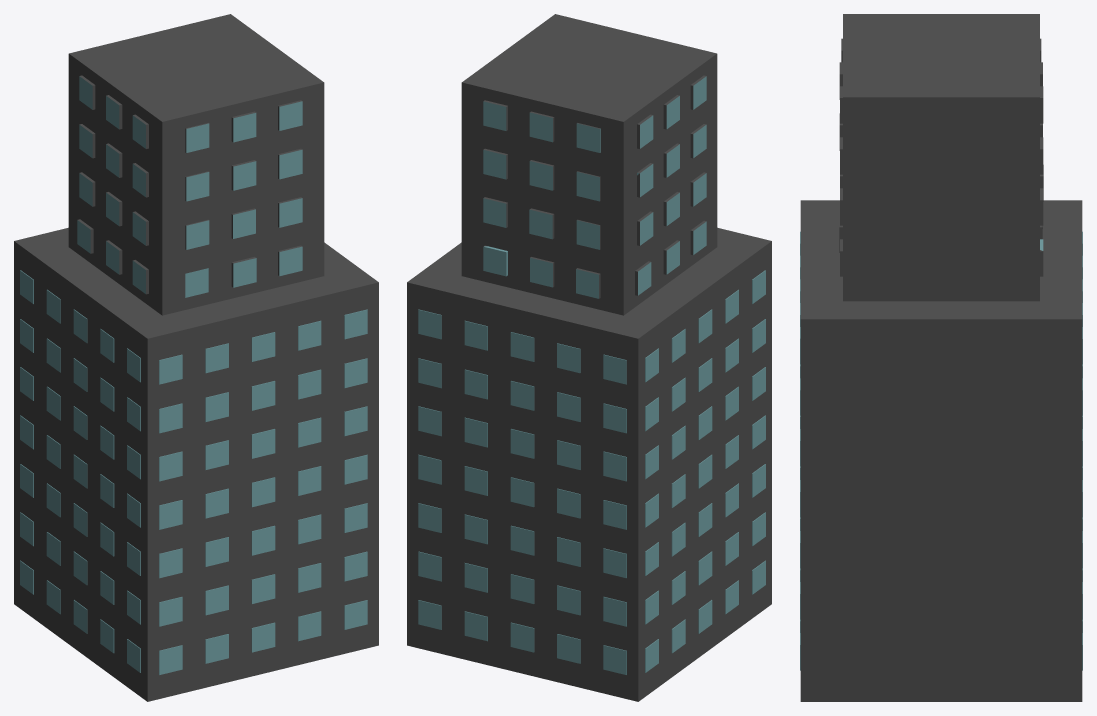
File: Building_006_City_004.fbx
3 views of the same model, side by side, from view 1: azimuth 30°, elevation 25°; view 2: azimuth 150°, elevation 25°; view 3: azimuth 270°, elevation 25° (orthographic). The views are drawn at different scales.
Parts seen in each view (by area): view 1: Building_006_City_004; view 2: Building_006_City_004; view 3: Building_006_City_004.
Part boxes in pixels (box(x1,y1,x2,y2)): Building_006_City_004: box(14, 14, 378, 701); Building_006_City_004: box(407, 14, 771, 701); Building_006_City_004: box(800, 14, 1082, 701).
Bounding box in the file's own units: 1002 × 2300 × 1005.
